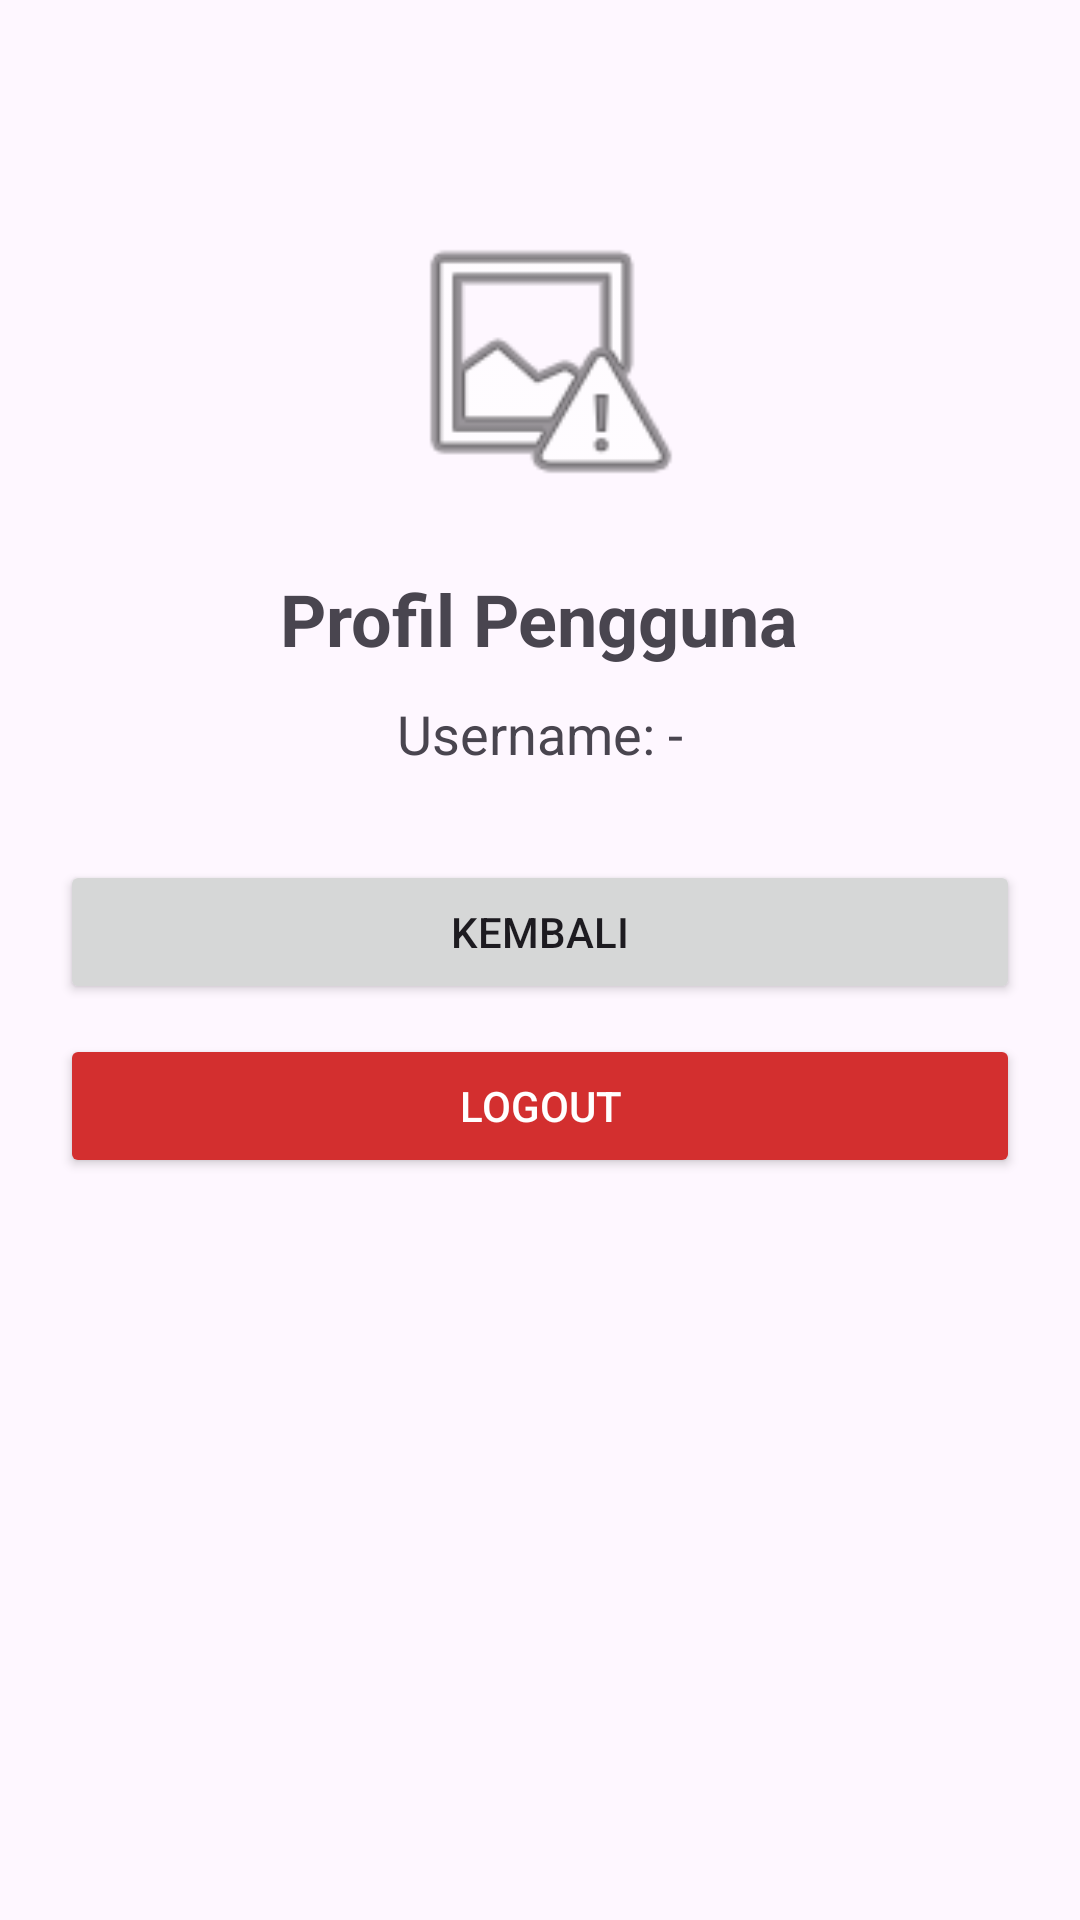

Icon click points for this 1080w x 1920h phone screenshot, format point (x, y):
report: point (551, 362)
